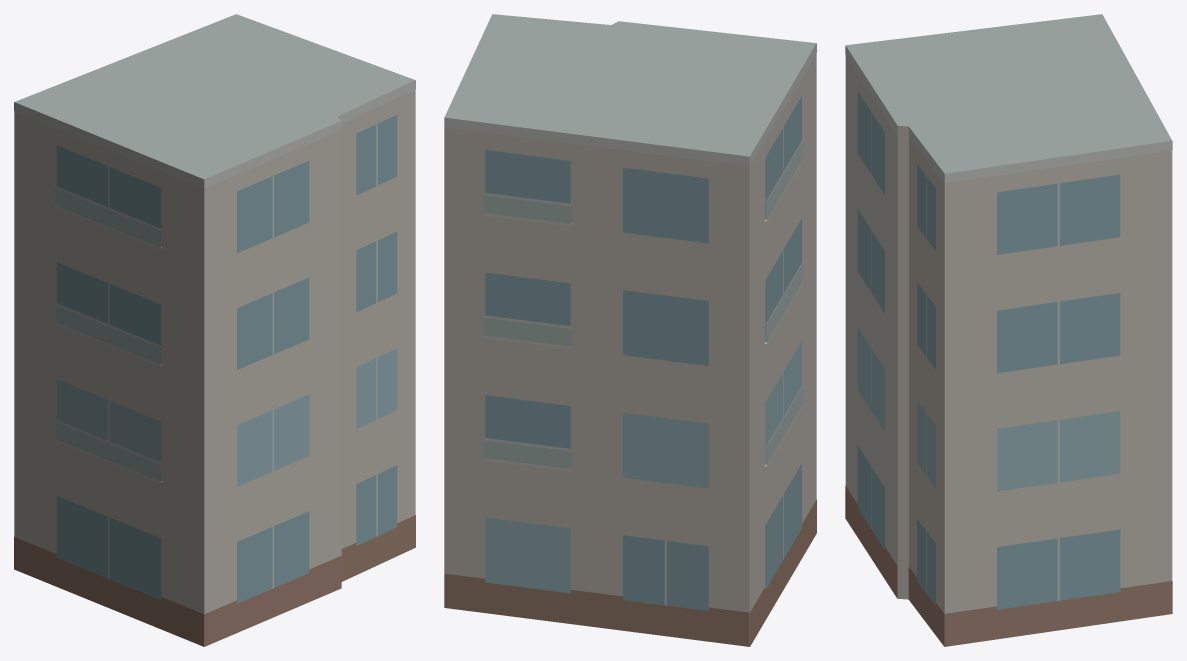
The model's file is survey-upis-32464762.glb.
3 renders of one model, left to right at view 1: azimuth 30°, elevation 25°; view 2: azimuth 150°, elevation 25°; view 3: azimuth 270°, elevation 25°, orthographic. The views are drawn at different scales.
Parts seen in each view (by area): view 1: survey-upis-32464762.tmp; view 2: survey-upis-32464762.tmp; view 3: survey-upis-32464762.tmp.
Boxes of the visible parts, x1,y1,x2,y2 form: survey-upis-32464762.tmp: (14, 14, 415, 646); survey-upis-32464762.tmp: (444, 14, 816, 646); survey-upis-32464762.tmp: (845, 14, 1172, 646).
Size of the model in its own units: 8.81 by 12.15 by 7.62.
